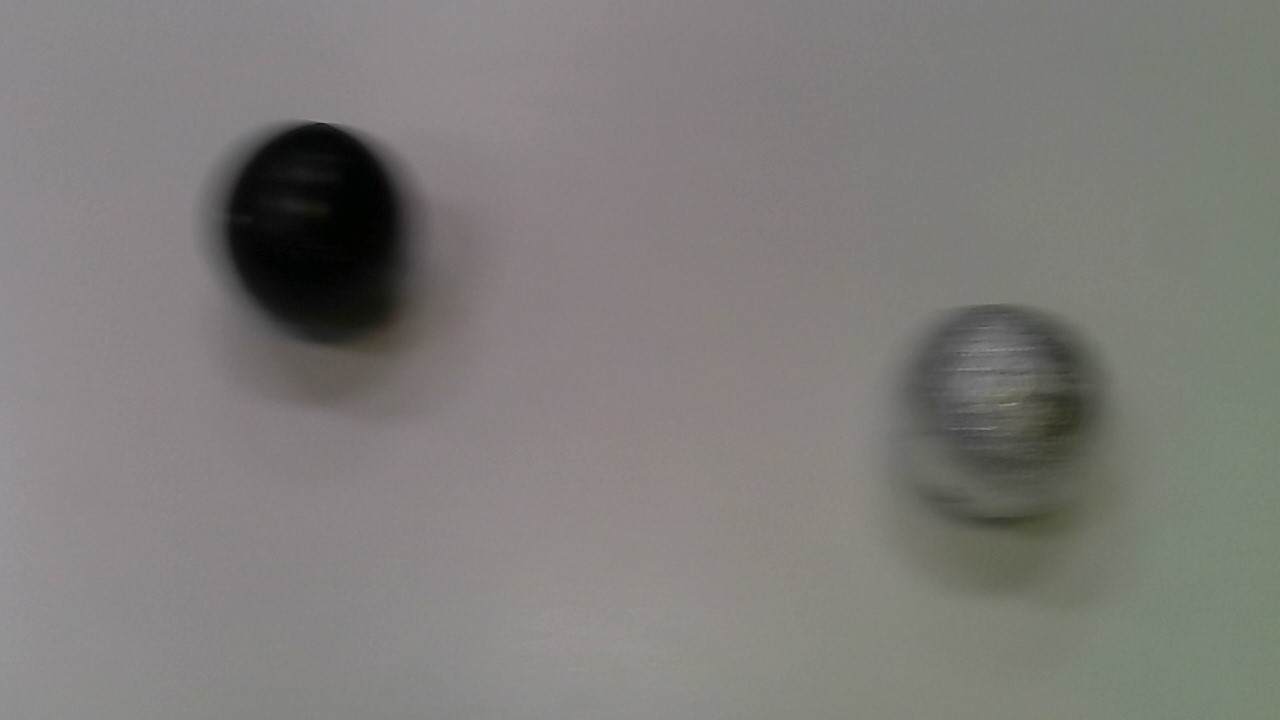black_ball: (217, 117, 423, 346)
silver_ball: (887, 293, 1116, 529)
